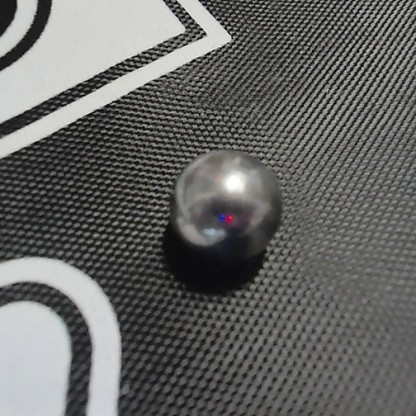ironball: (169, 148, 282, 254)
